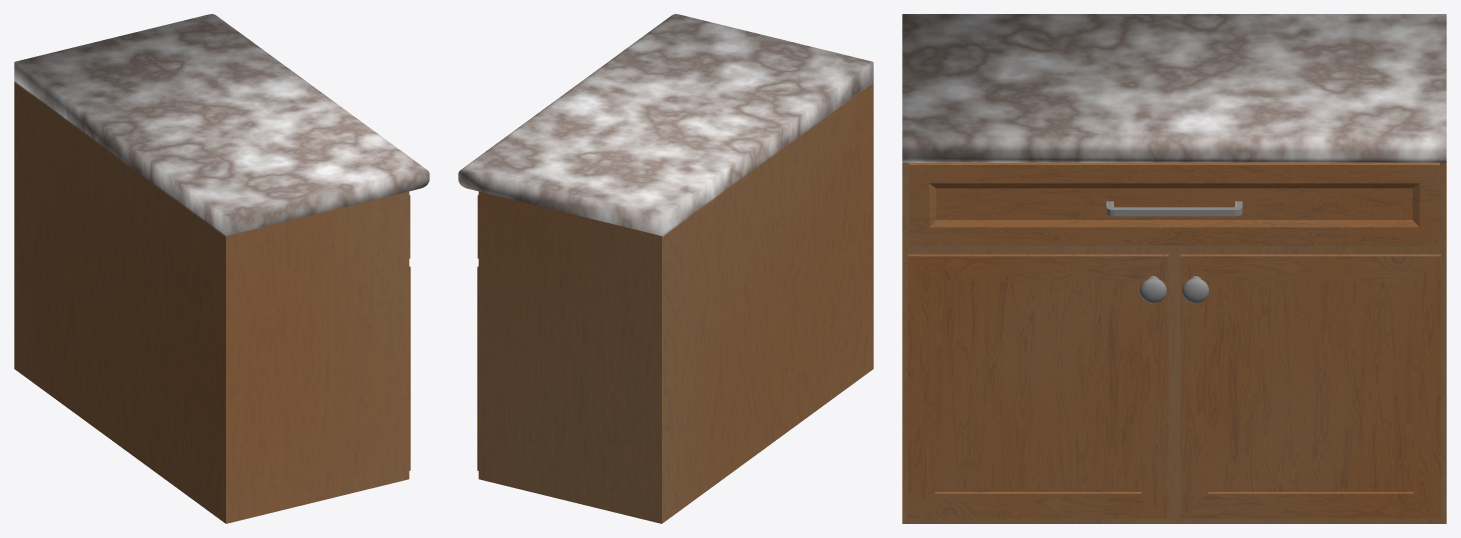
The model's file is CounterCabinet_duo-triple.glb.
3 views of the same model, side by side, from view 1: azimuth 30°, elevation 25°; view 2: azimuth 150°, elevation 25°; view 3: azimuth 270°, elevation 25° (orthographic). The views are drawn at different scales.
Parts seen in each view (by area): view 1: mesh; view 2: mesh; view 3: mesh.
Part boxes in pixels (<box>): mesh: <box>14,14,429,523</box>; mesh: <box>458,14,873,523</box>; mesh: <box>902,14,1446,523</box>.
Size of the model in its own units: 2.24 by 3.2 by 4.
Materials: 1 (1 with a texture image).
